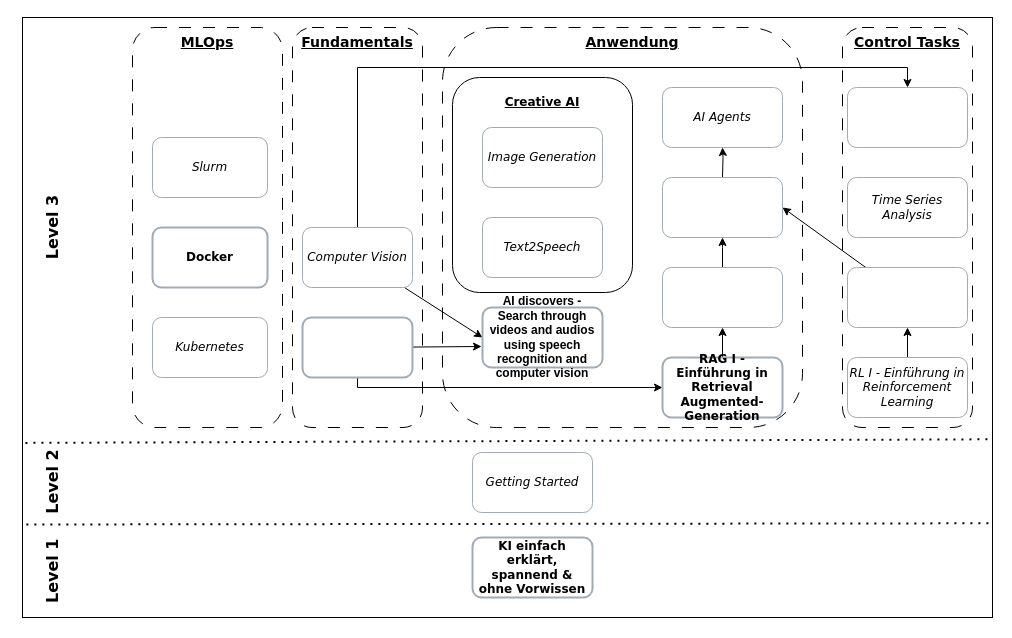
Some shapes in this 1012 by 638 pixel diagram are drawn without their labels. Here are the shapes that lost their labels. From the top down, the box of each, then its label:
(846, 86, 968, 148): Robotics
(662, 176, 782, 238): RL III / RAG III - Reinforcement Learning from Human Feedback für RAG
(662, 266, 782, 328): RAG II - Datenaufbereitung
(846, 266, 968, 328): RL II - Implementierung von Reinforcement Learning
(301, 316, 413, 378): Embeddings I - VI
